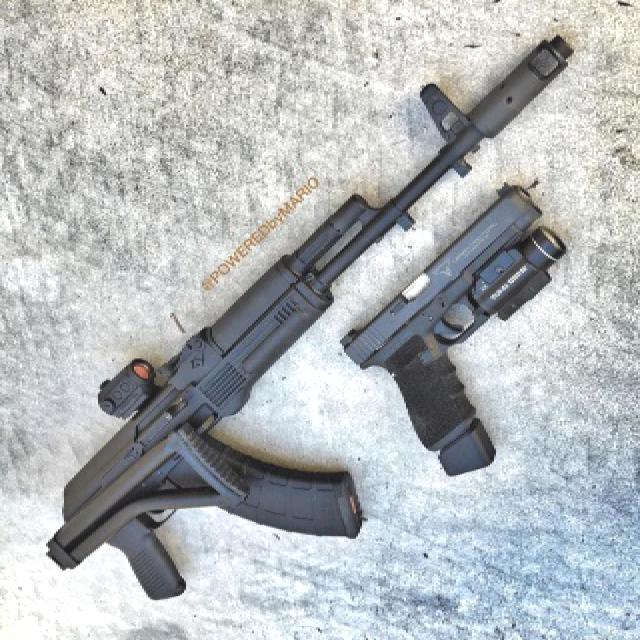long weapon: (46, 24, 596, 603)
